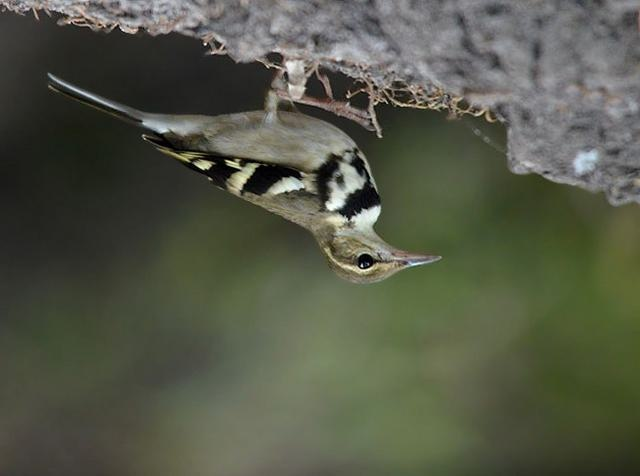wagtail: (117, 61, 449, 288)
